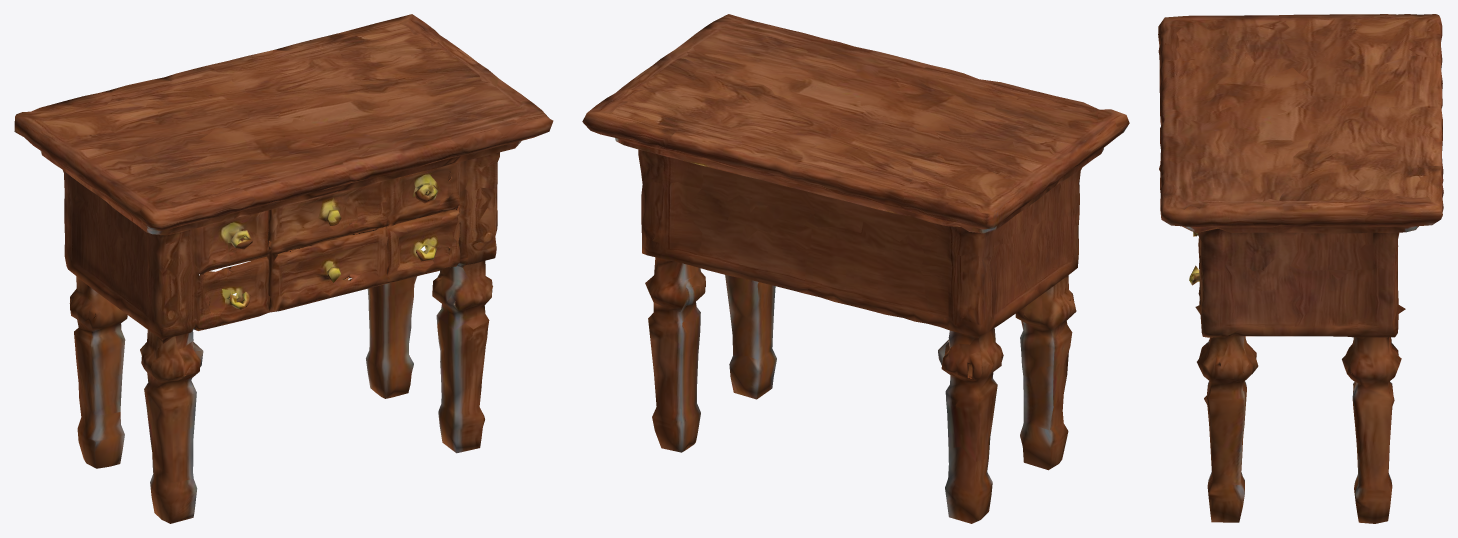
File: desk.glb
3 renders of one model, left to right at view 1: azimuth 30°, elevation 25°; view 2: azimuth 150°, elevation 25°; view 3: azimuth 270°, elevation 25°, orthographic.
Bounding box in the file's own units: 1 × 0.802 × 0.6109.
1 material, 1 textured.
